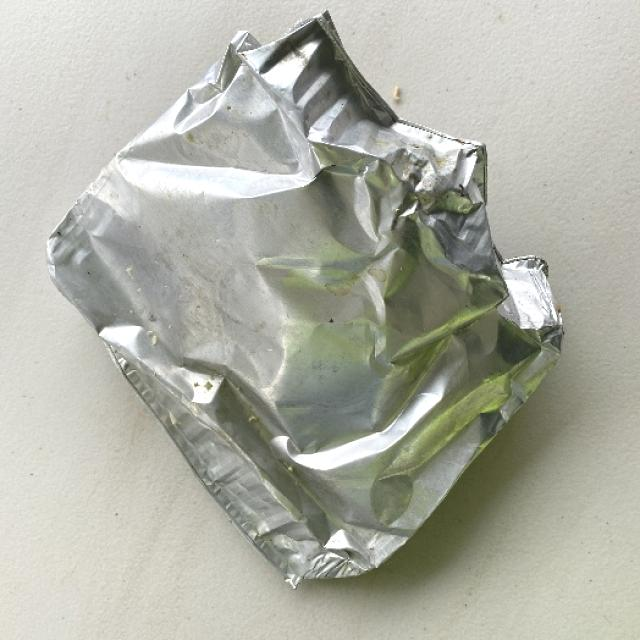inorganic: (42, 12, 566, 589)
